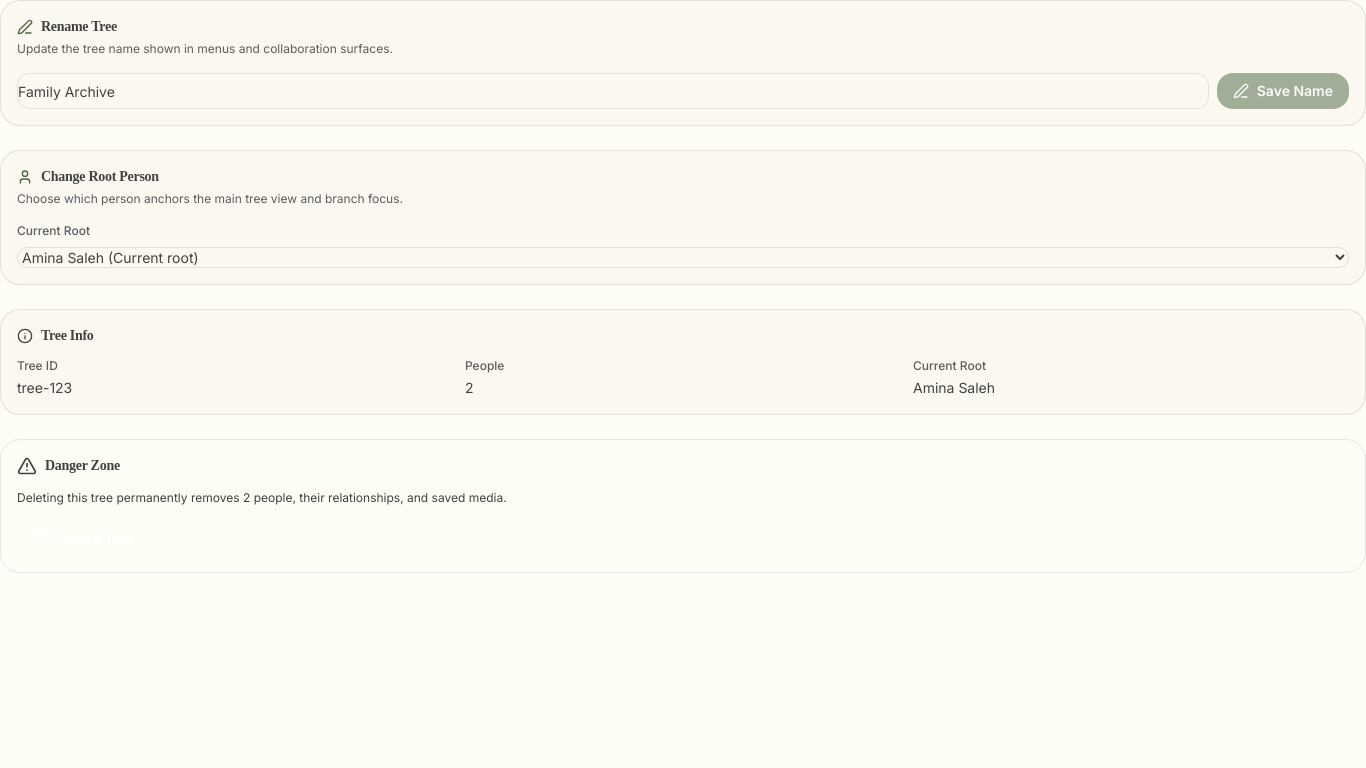
TreeSettingsTab › asks for confirmation before changing the root person
Select "Omar Hassan" in the dropdown labelled "Current Root" at (683, 258), box [17,247,1349,268]
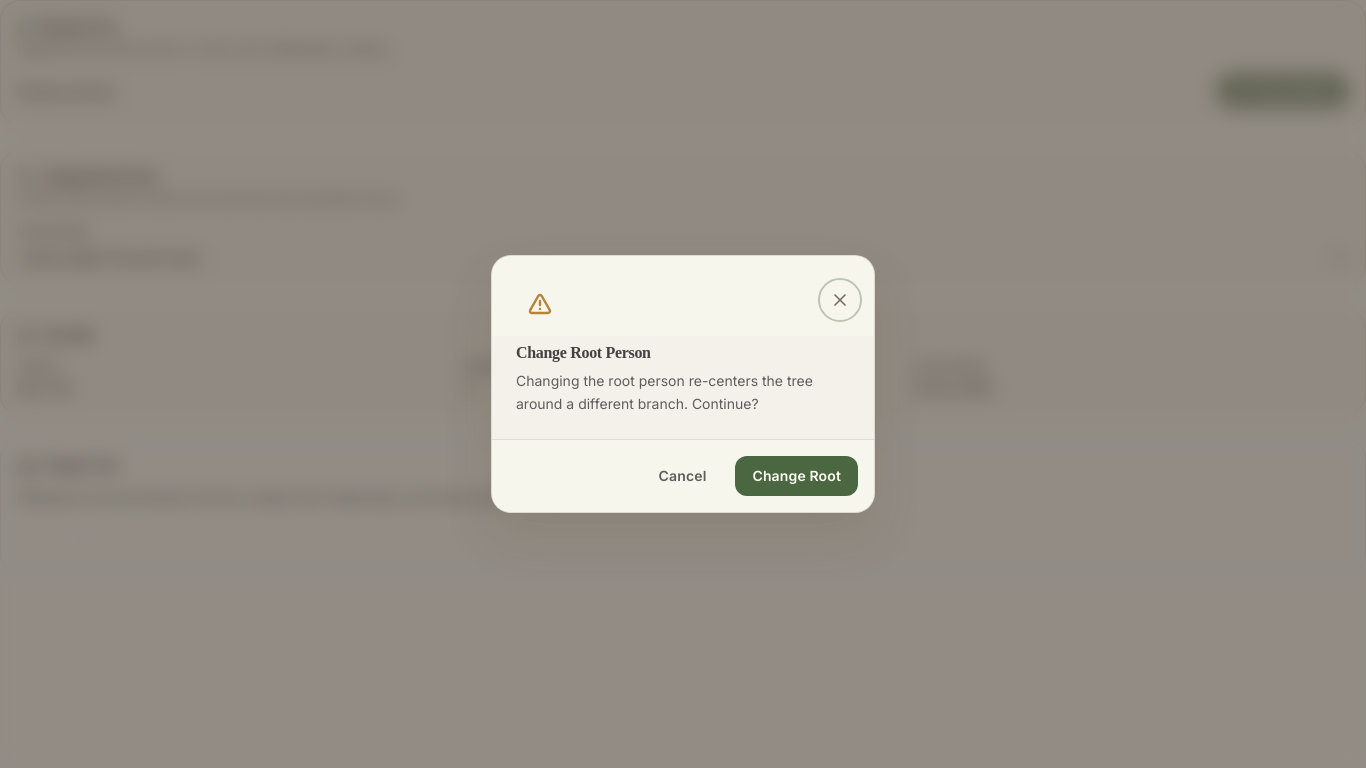
expect the text "Changing the root person re-centers the tree around a different branch. Continue?" is shown: met, box [516,372,813,412]
expect the button "Change Root" is shown: met, box [736,456,858,496]
